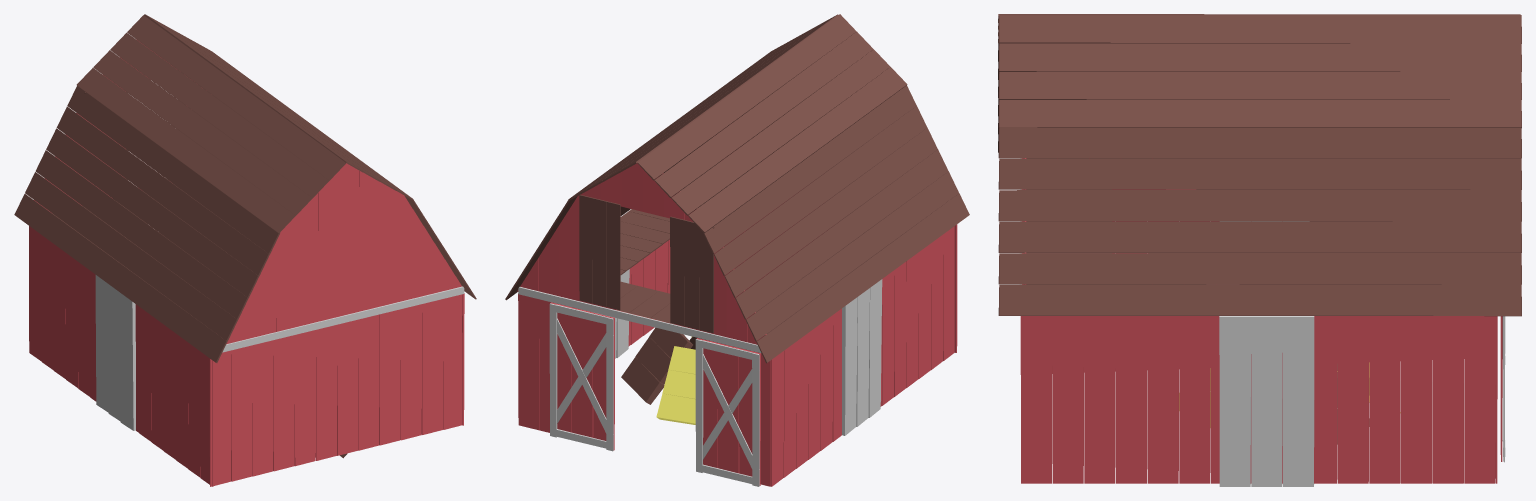
File: Ambar.fbx
3 renders of one model, left to right at view 1: azimuth 30°, elevation 25°; view 2: azimuth 150°, elevation 25°; view 3: azimuth 270°, elevation 25°, orthographic. The views are drawn at different scales.
Visible parts, largest first — view 1: Cube.005, Cube.002, Cube.009, Cube.001, Cube.023, Cube.032; view 2: Cube.005, Cube.001, Cube.013, Cube.015, Cube.006, Cube.023, Cube.033, Cube.022, Cube.003, Cube.029, Cube.028, Cube.008 (+6 smaller); view 3: Cube.005, Cube, Cube.021, Cube.015.
Boxes of the visible parts, <box> form: Cube.005: <box>14,14,476,362</box>; Cube.002: <box>209,293,464,486</box>; Cube.009: <box>226,163,461,344</box>; Cube.001: <box>29,226,213,486</box>; Cube.023: <box>95,275,135,430</box>; Cube.032: <box>222,286,464,352</box>; Cube.005: <box>505,14,969,363</box>; Cube.001: <box>771,226,954,486</box>; Cube.013: <box>695,338,760,486</box>; Cube.015: <box>549,302,614,451</box>; Cube.006: <box>517,163,766,344</box>; Cube.023: <box>842,279,882,435</box>; Cube.033: <box>670,216,714,333</box>; Cube.022: <box>579,194,620,310</box>; Cube.003: <box>518,293,580,432</box>; Cube.029: <box>621,327,692,404</box>; Cube.028: <box>656,346,695,424</box>; Cube.008: <box>620,166,742,274</box>; Cube.005: <box>998,14,1521,316</box>; Cube: <box>1020,316,1495,483</box>; Cube.021: <box>1219,316,1314,486</box>; Cube.015: <box>1500,316,1505,462</box>.
Size of the model in its own units: 2504 by 2862 by 3356.
